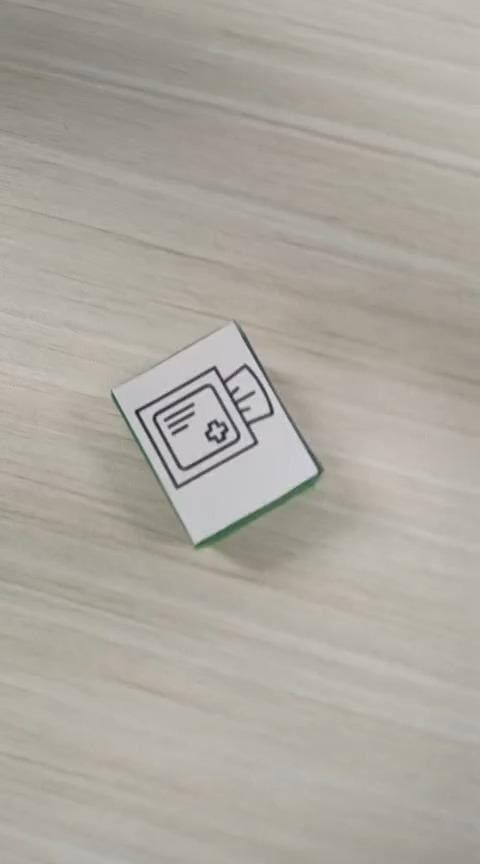Gauze: (109, 317, 322, 549)
